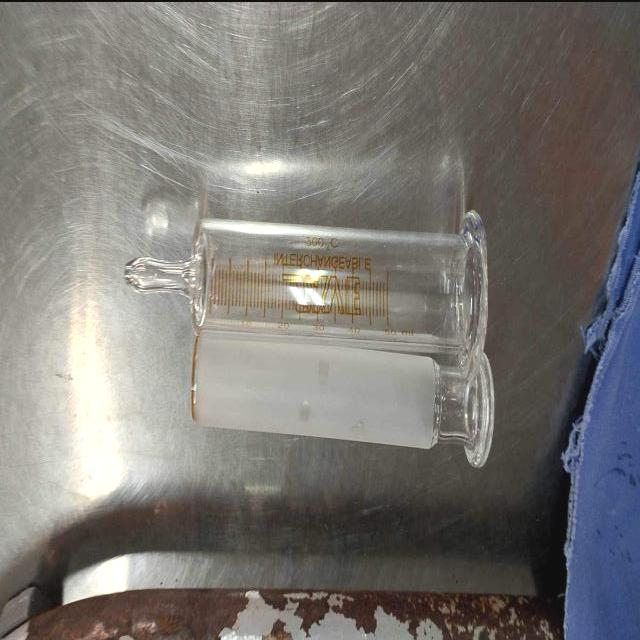Sharps: (121, 208, 486, 362), (187, 328, 495, 467)
